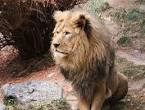lion: (50, 8, 131, 106)
